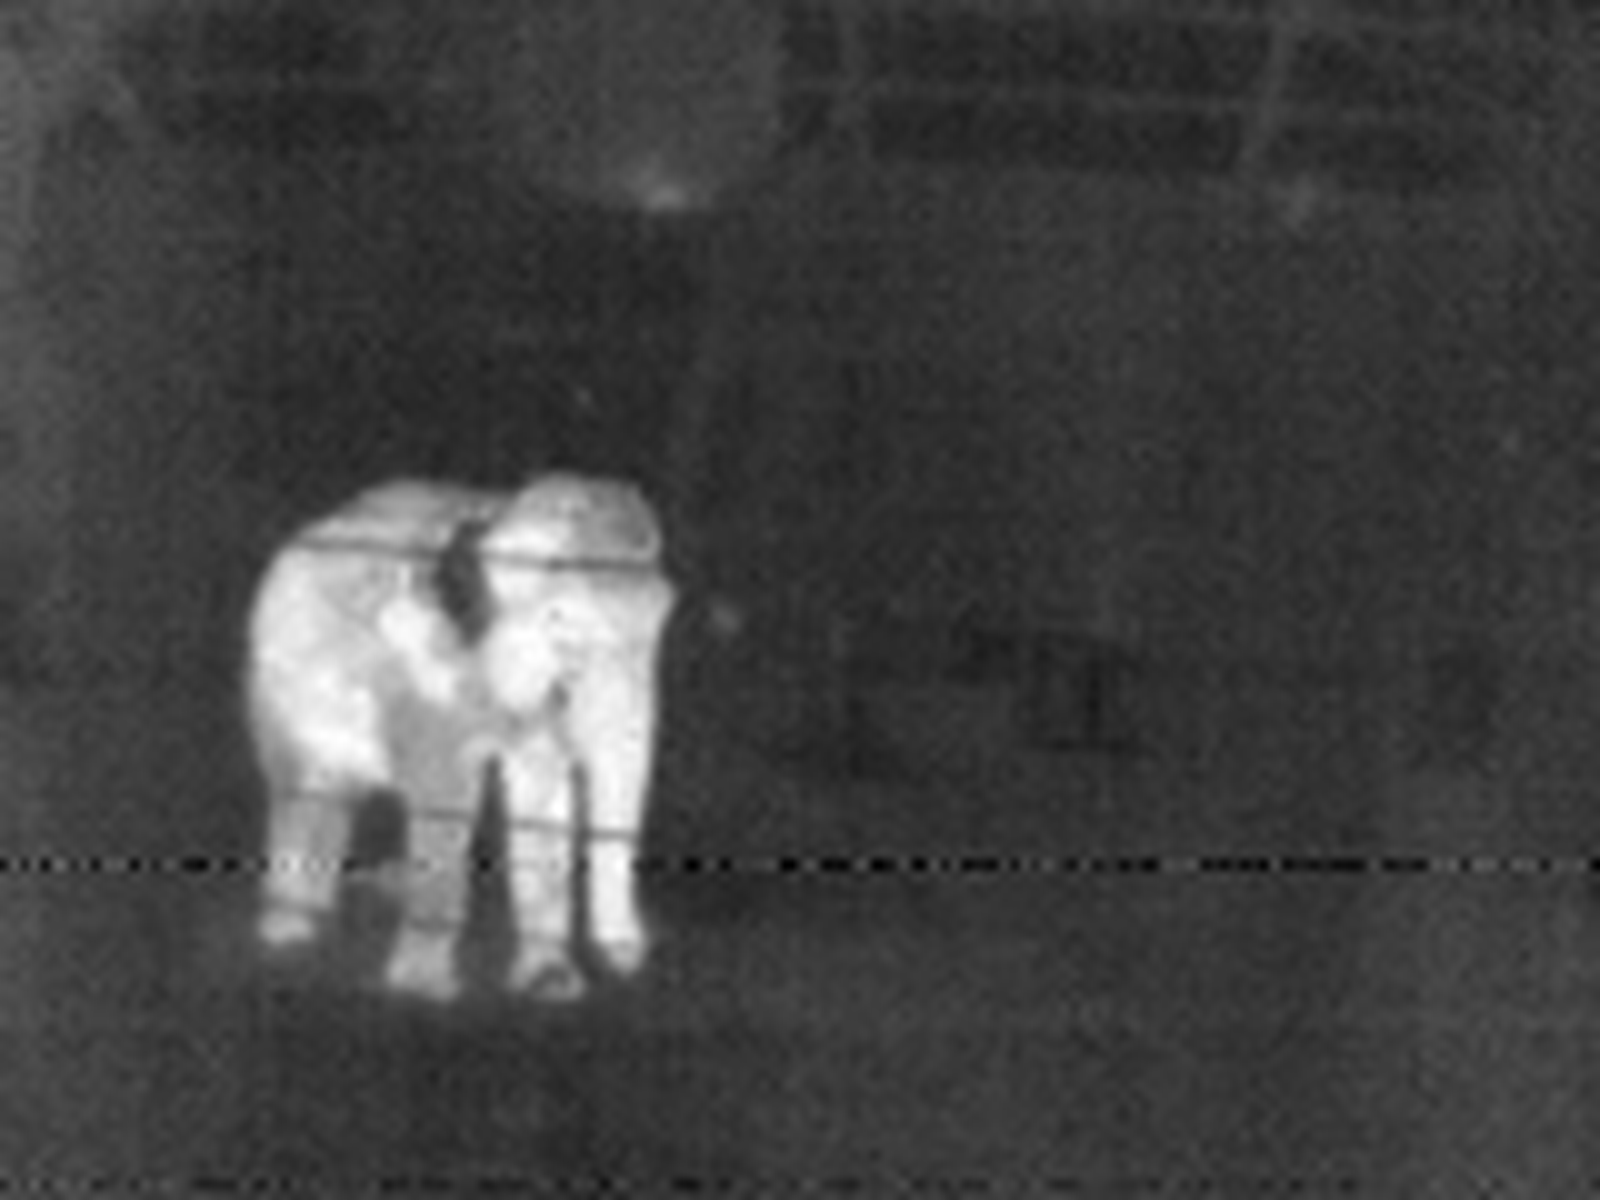elephant: (226, 456, 716, 1063)
